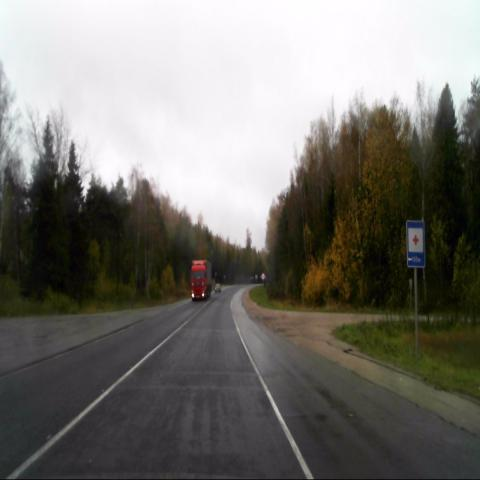7_1: (405, 220, 426, 269)
